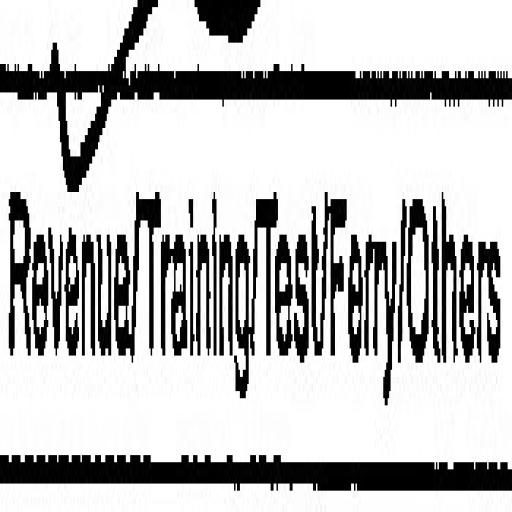check: (1, 0, 136, 512)
